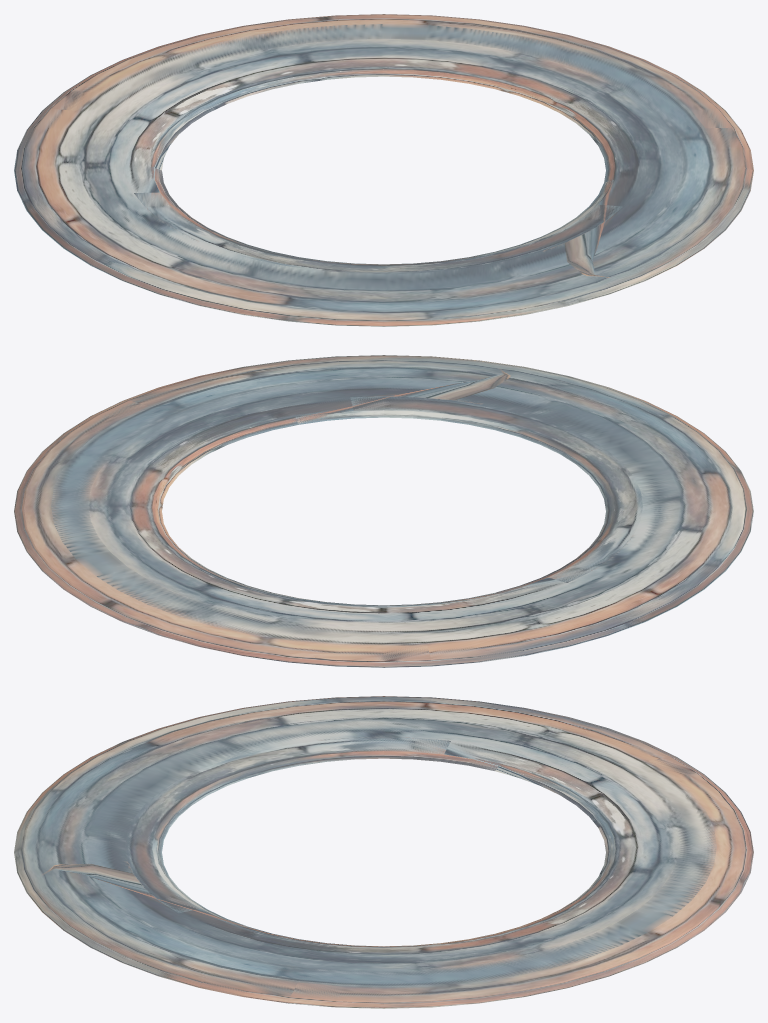
File: ring_obj.obj
3 views of the same model, one above another, from view 1: azimuth 30°, elevation 25°; view 2: azimuth 150°, elevation 25°; view 3: azimuth 270°, elevation 25° (orthographic).
Visible parts, largest first — view 1: Torus; view 2: Torus; view 3: Torus.
Part boxes in pixels (x1=…): Torus: x1=14, y1=14, x2=753, y2=326; Torus: x1=14, y1=355, x2=753, y2=667; Torus: x1=14, y1=696, x2=753, y2=1008.
Size of the model in its own units: 6.25 by 0.125 by 6.25.
